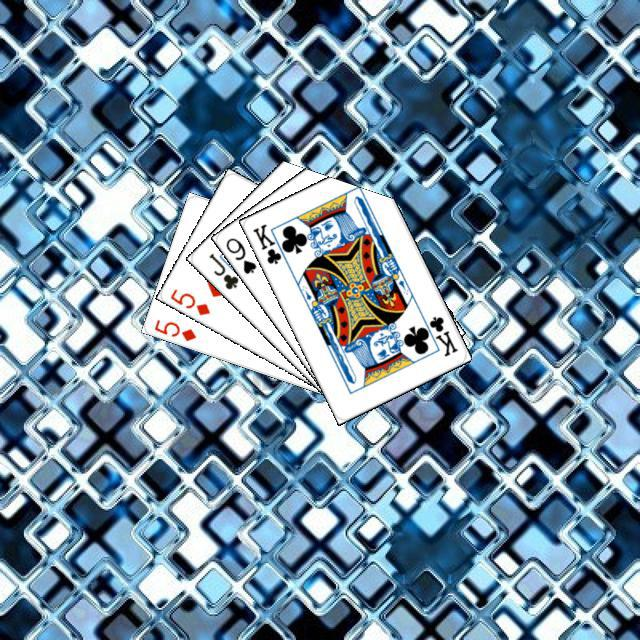5d: (165, 284, 212, 317), (149, 314, 198, 343)
9s: (221, 232, 258, 276)
Jc: (204, 248, 240, 291)
Kc: (247, 219, 290, 266), (417, 311, 460, 358)
